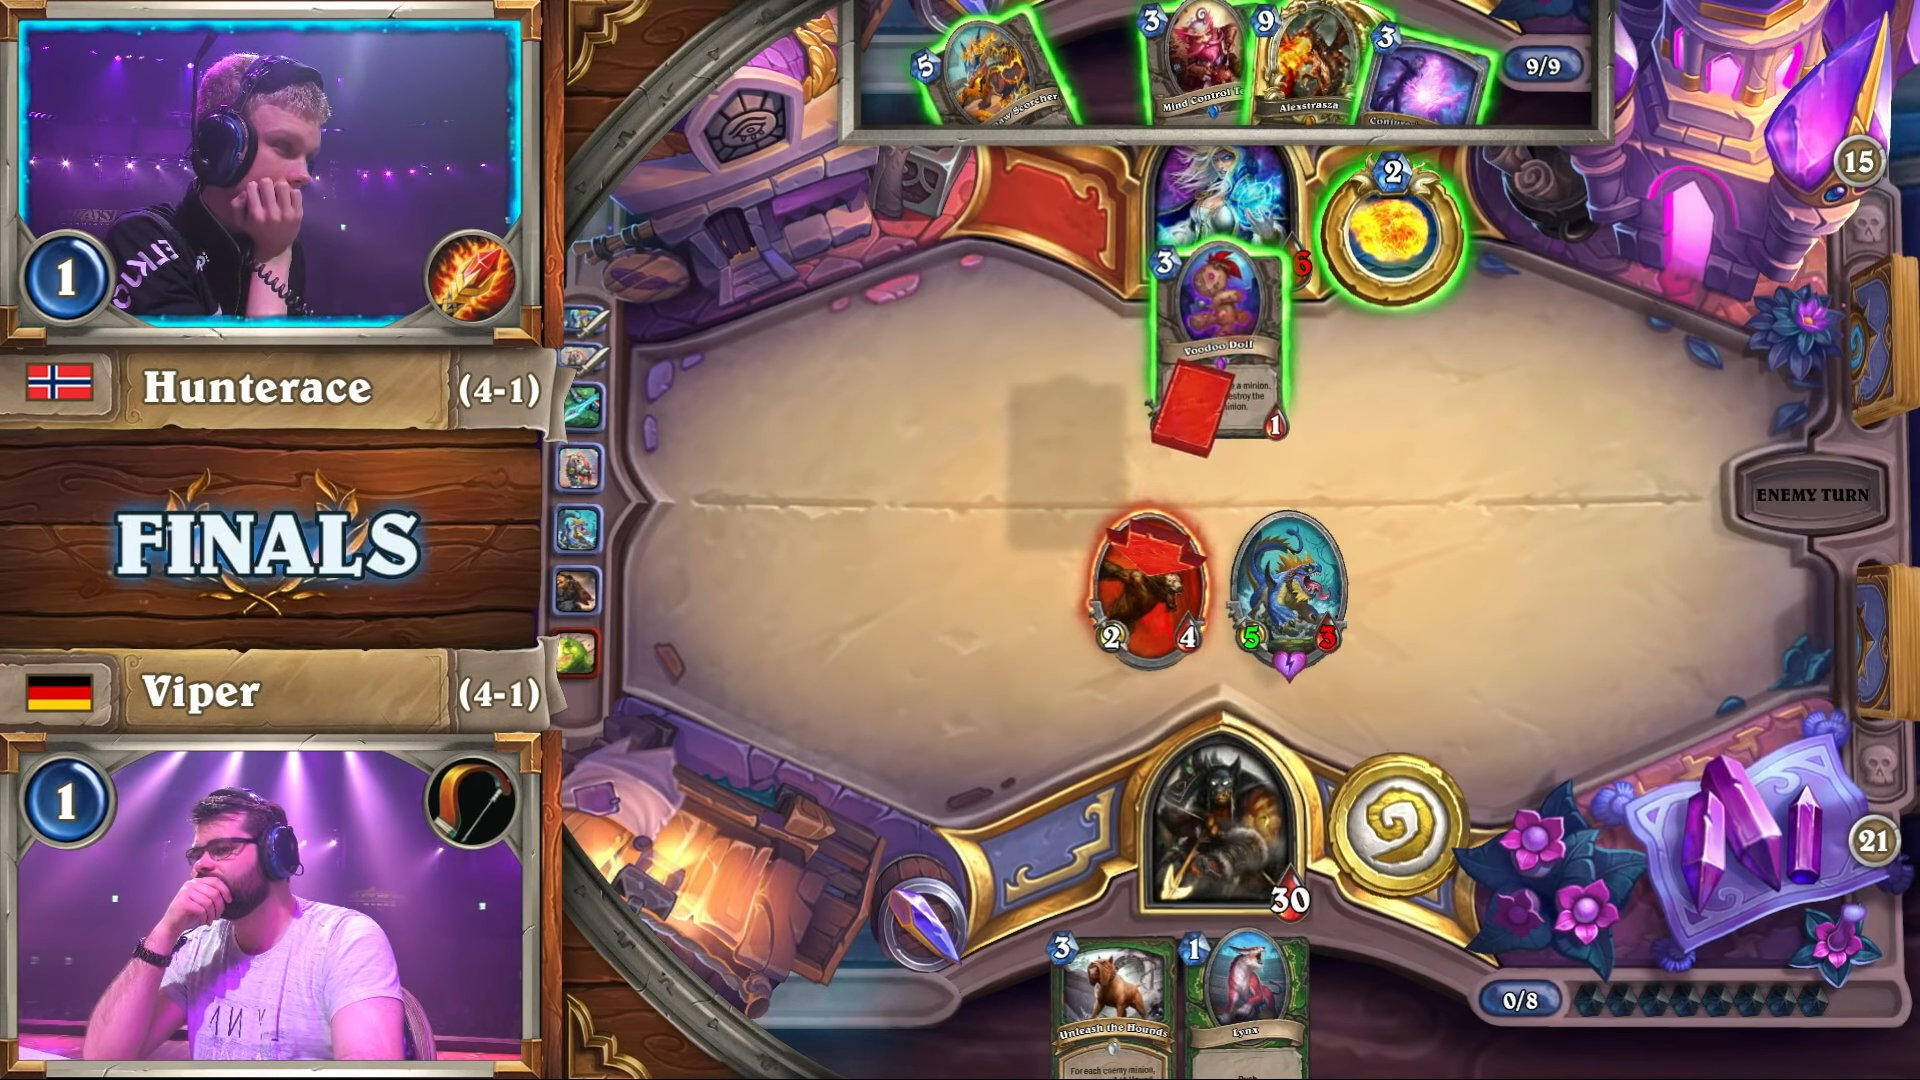card: (1145, 241, 1294, 444), (905, 7, 1091, 131), (1051, 928, 1179, 1080), (1178, 928, 1305, 1080), (1244, 1, 1371, 129), (1356, 25, 1494, 129), (1133, 1, 1249, 125)
